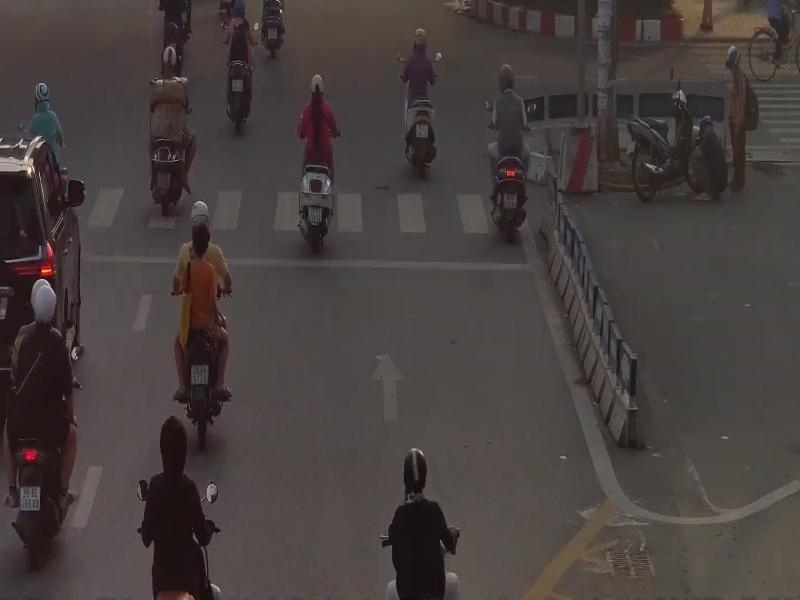helmet: (402, 444, 428, 494), (34, 283, 57, 328), (498, 62, 515, 92), (191, 201, 209, 226), (34, 82, 50, 108), (162, 45, 178, 67), (413, 25, 428, 48), (310, 76, 325, 94), (234, 0, 246, 17)
license_plate: (20, 487, 40, 511), (192, 365, 208, 386), (157, 170, 172, 188), (504, 192, 517, 210), (309, 207, 323, 223), (416, 123, 428, 138), (233, 78, 243, 92), (268, 27, 277, 39)
motorcyclist: (5, 274, 80, 570), (173, 194, 242, 460), (484, 57, 538, 254), (144, 39, 194, 215), (295, 67, 340, 253), (399, 21, 445, 179), (222, 0, 257, 137)
